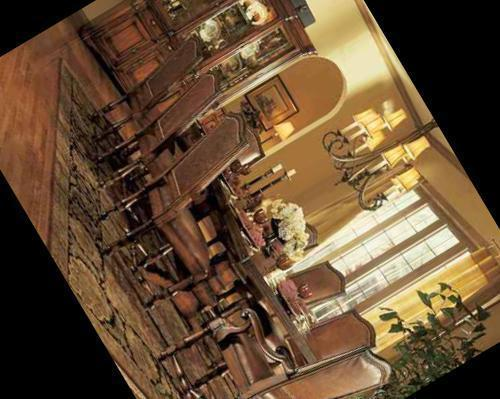Matera: (264, 312, 478, 399)
